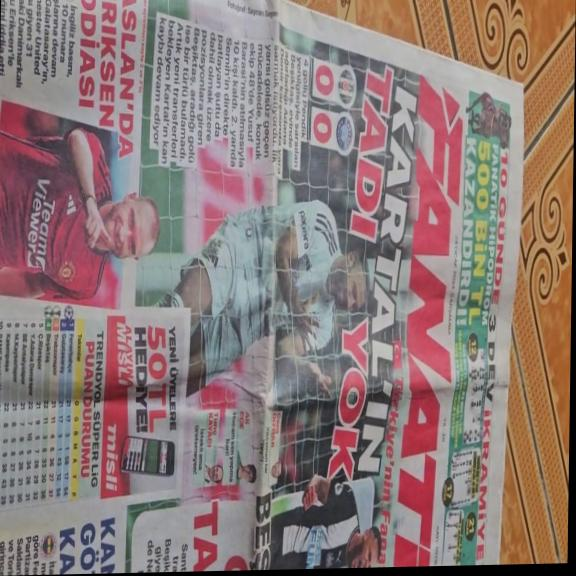Kertas: (152, 83, 517, 568)
